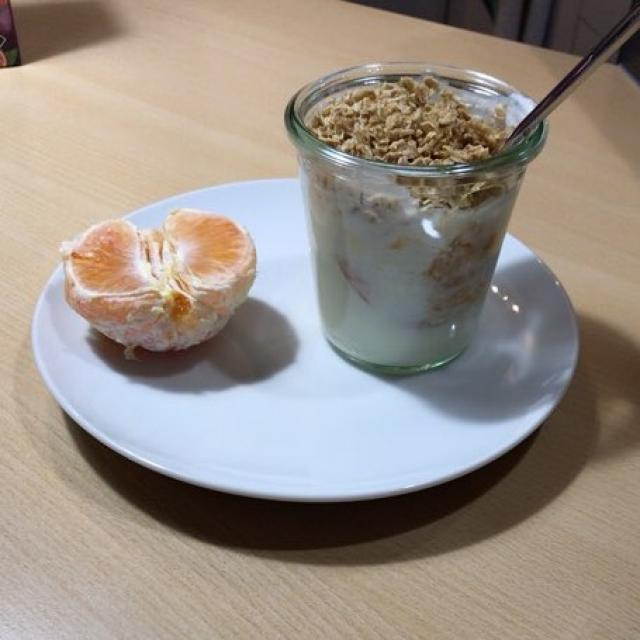birchermuesli: (304, 77, 497, 371)
crunch-muesli: (334, 85, 520, 202)
orange: (65, 212, 254, 352)
